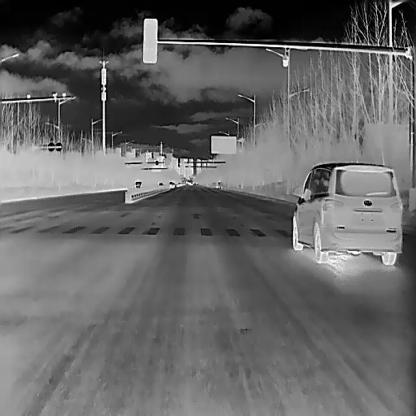car: (292, 161, 402, 265), (133, 180, 141, 189), (169, 180, 174, 188)
